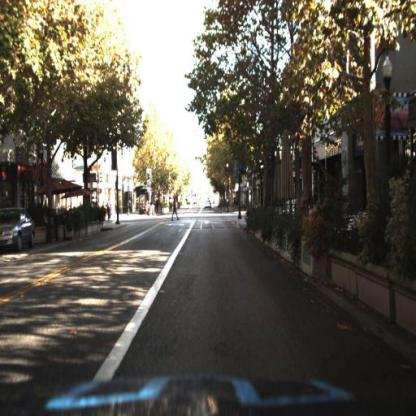pedestrian: (142, 198, 157, 219), (171, 191, 181, 219)
trafficLight-Red: (225, 155, 232, 179)
